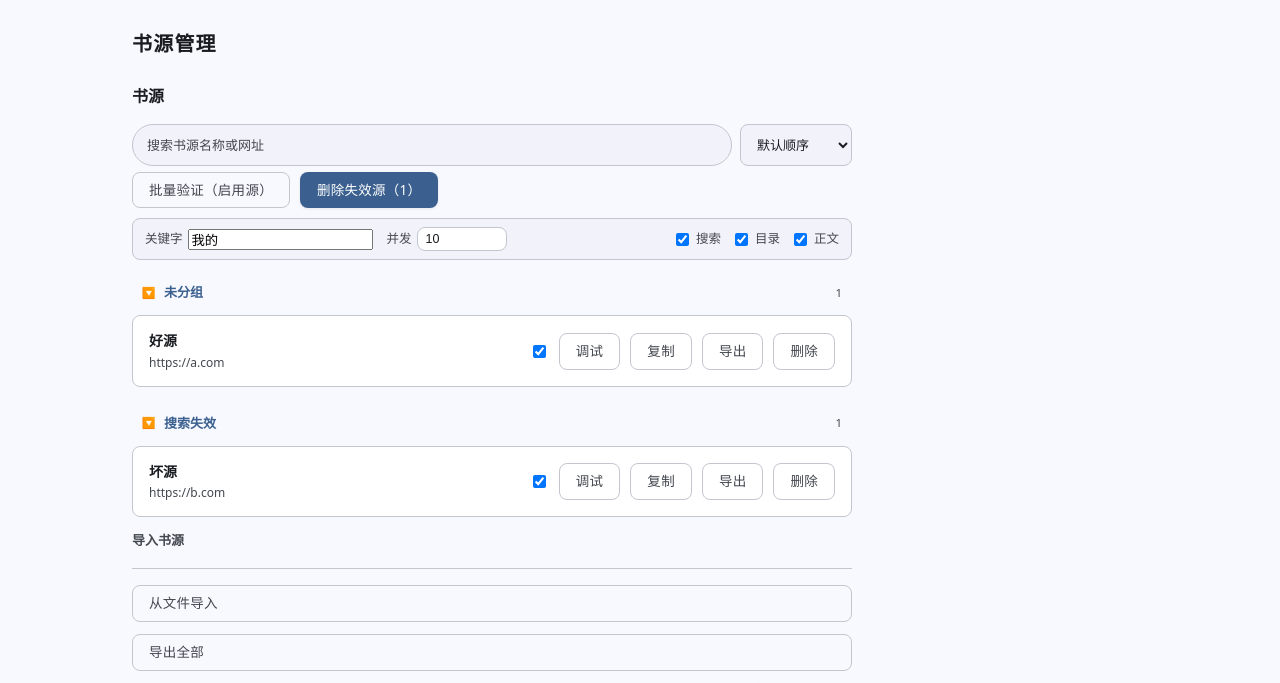
BookSourceManager › deletes invalid sources with confirmation (legado getInvalidGroupNames)
Expected: the text "好源" is shown, [149,331,177,350]
Click the button "删除失效源（1）" at (369, 190), box [300,172,438,208]
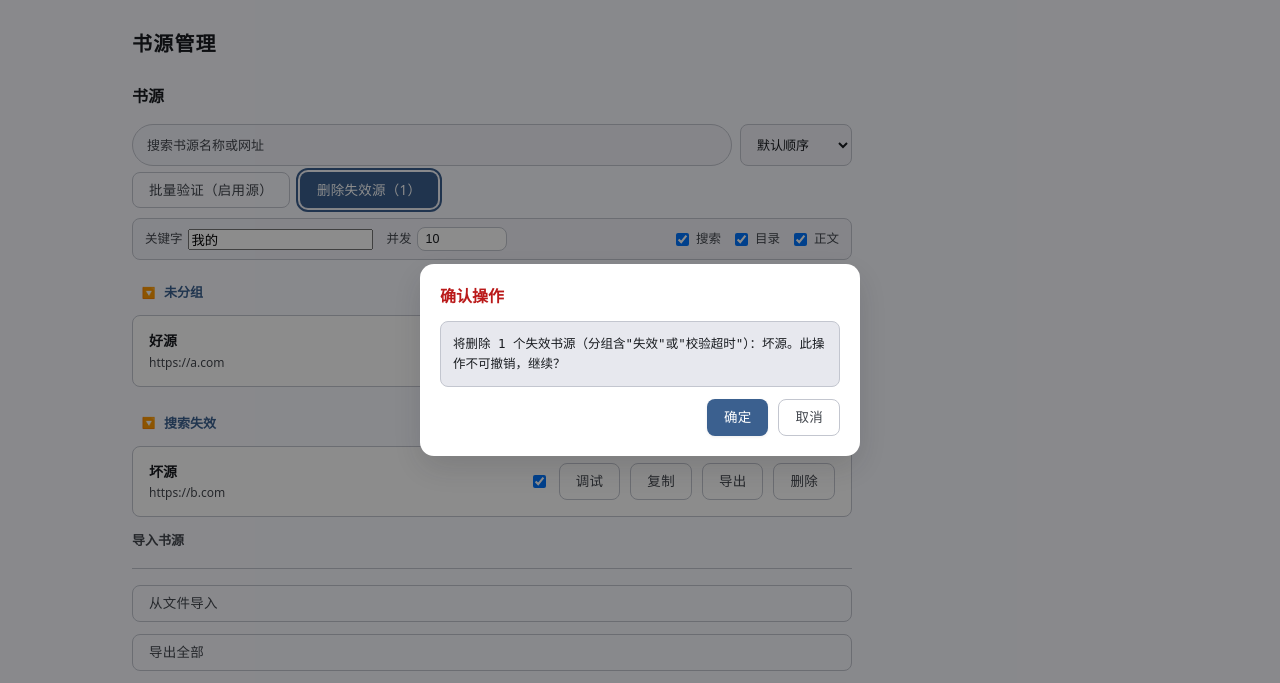
Now the text "将删除 1 个失效书源（分组含\"失效\"或\"校验超时\"）：坏源。此操作不可撤销，继续？" is shown, box [440,321,840,387]
Click the button "确定" at (738, 418), box [707,399,768,436]
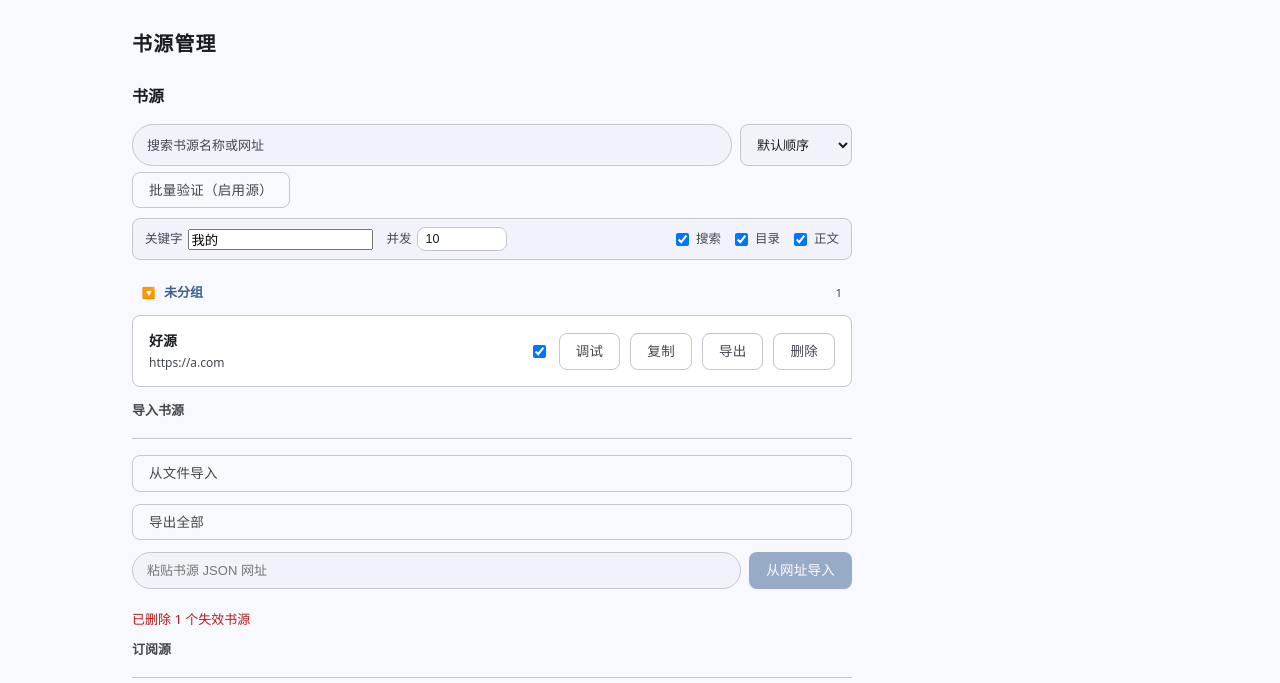
Now the button "删除失效源" is gone
